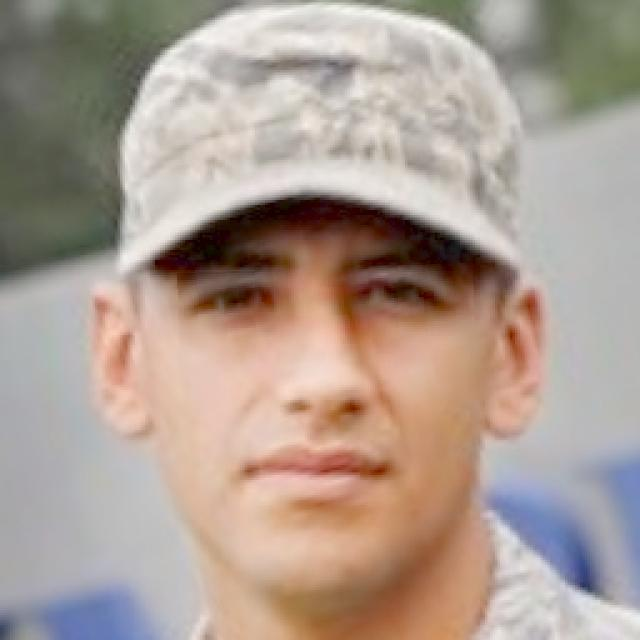no-glasses: (178, 266, 476, 364)
